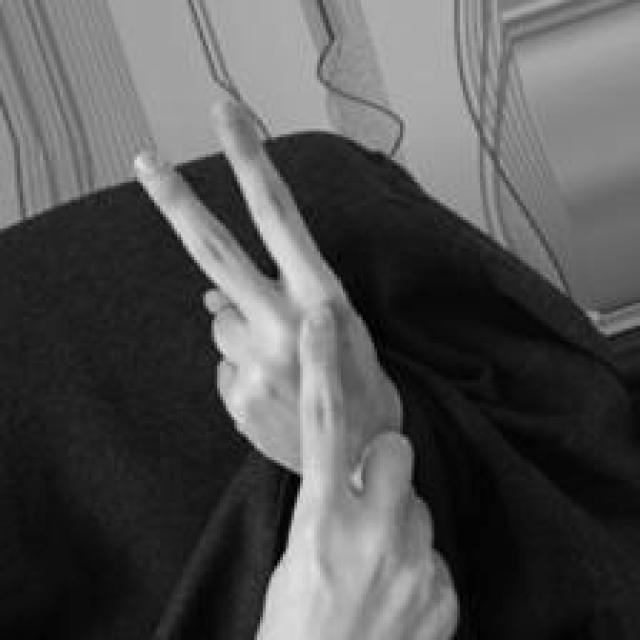Y: (123, 88, 460, 640)
